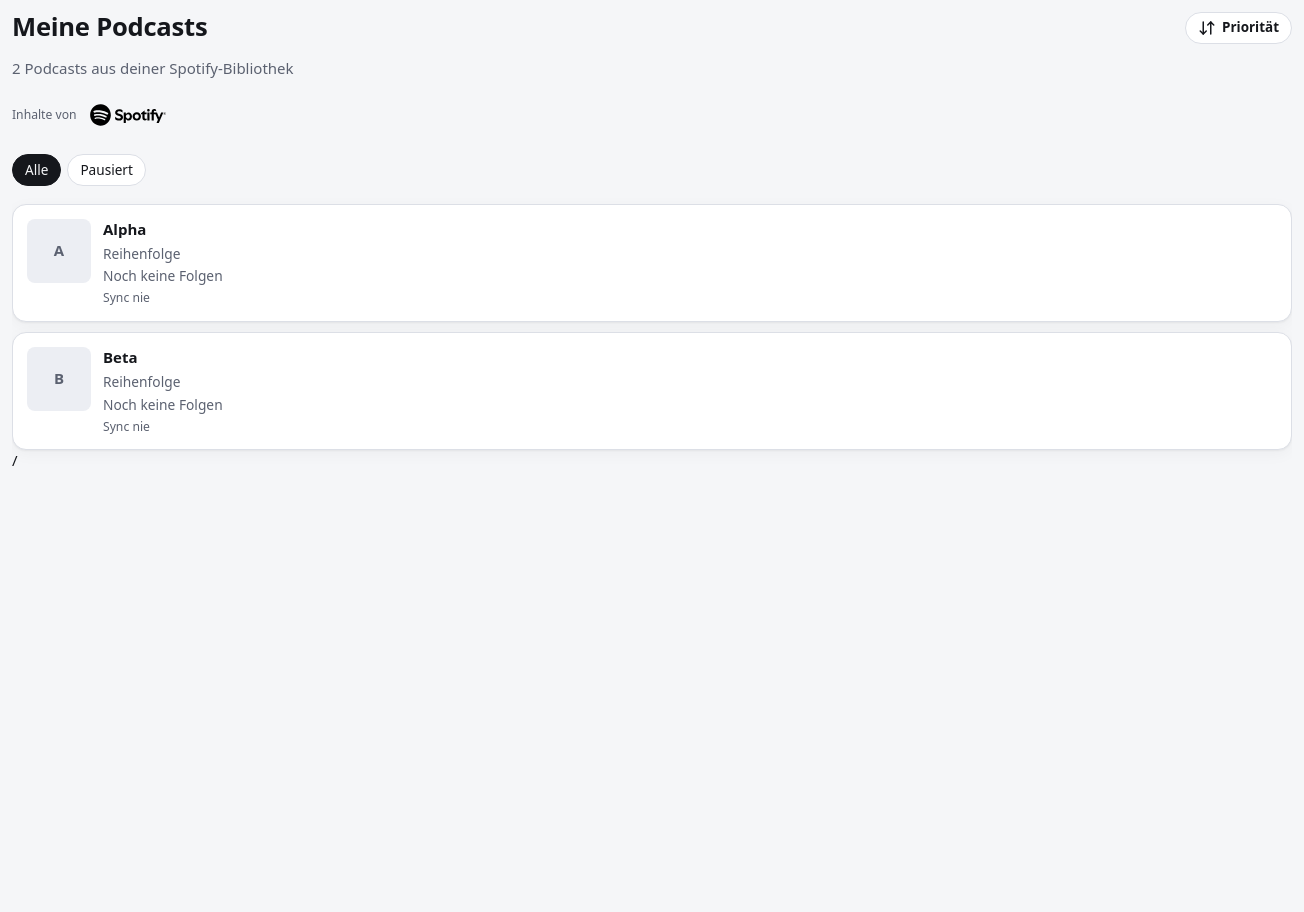
Test case: ShowsPage › puts a podcast back when moving it fails
The image size is (1304, 912).
Expected: the text "Alpha" is shown, [103,219,146,241]
Click the button "Priorität" at (1239, 28), box [1185,12,1292,44]
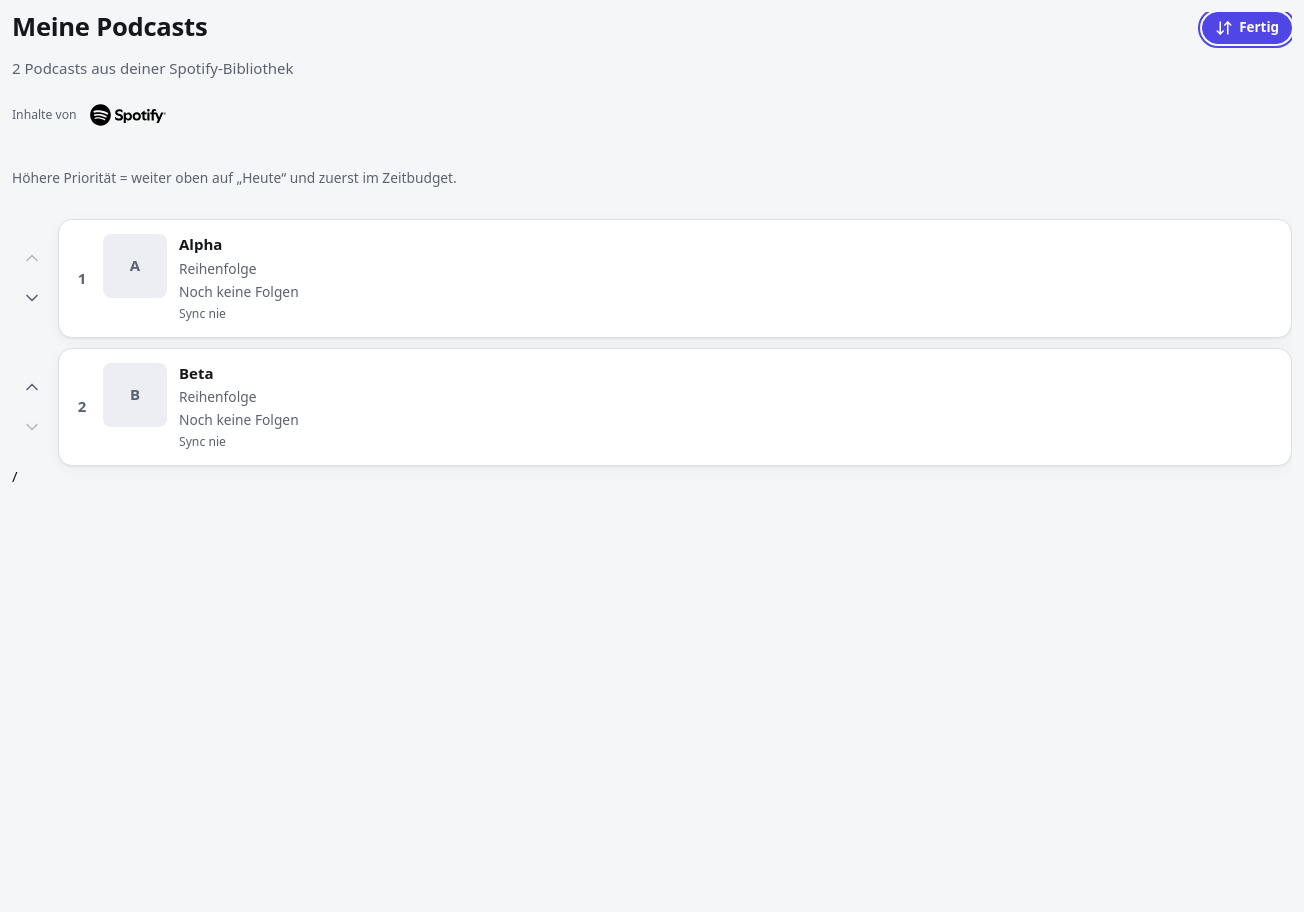
Click the button named "Nach unten" below "Alpha" at (32, 298), box [12,278,52,318]
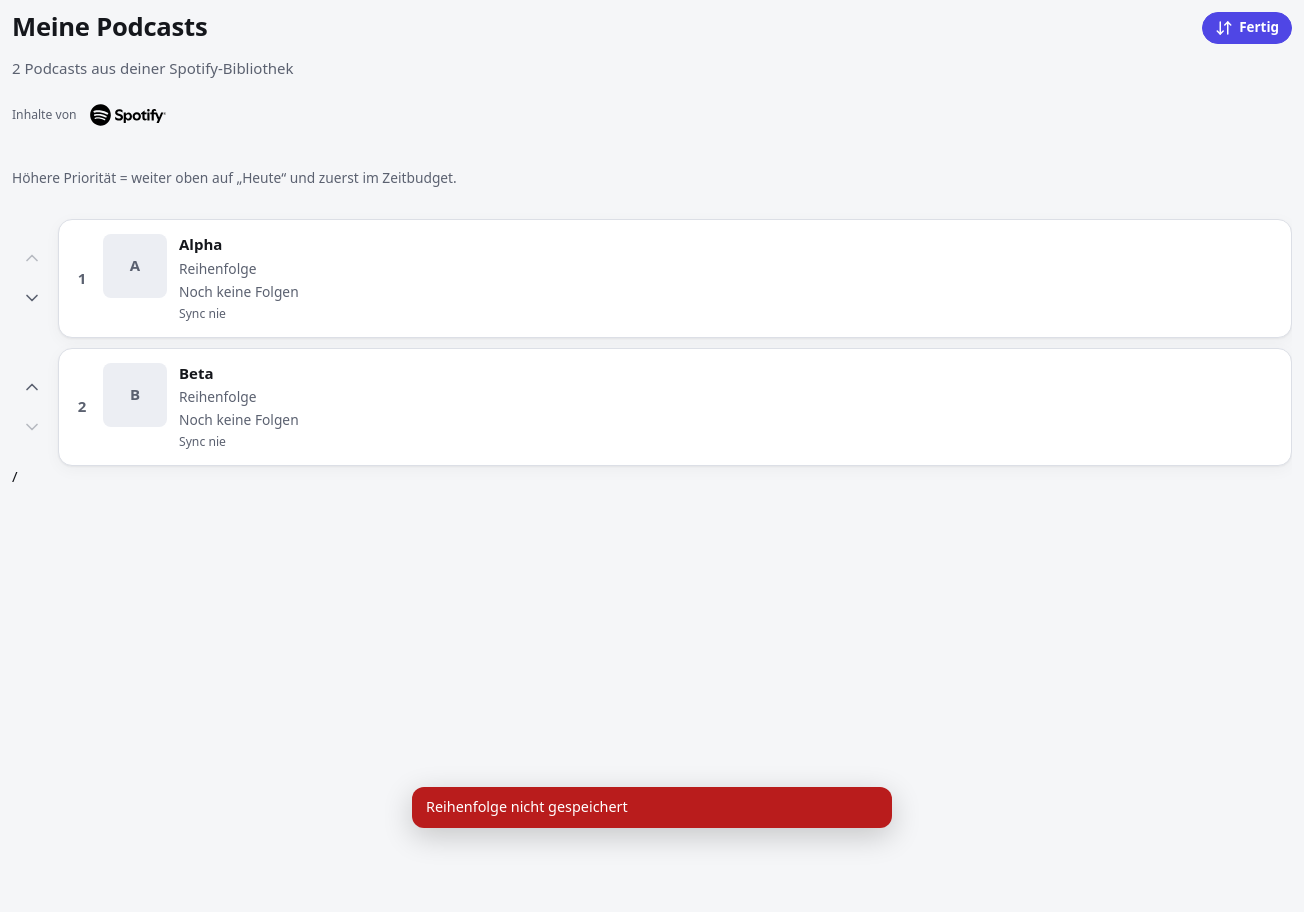
Expected: the text "Reihenfolge nicht gespeichert" is shown, [426,797,628,816]
